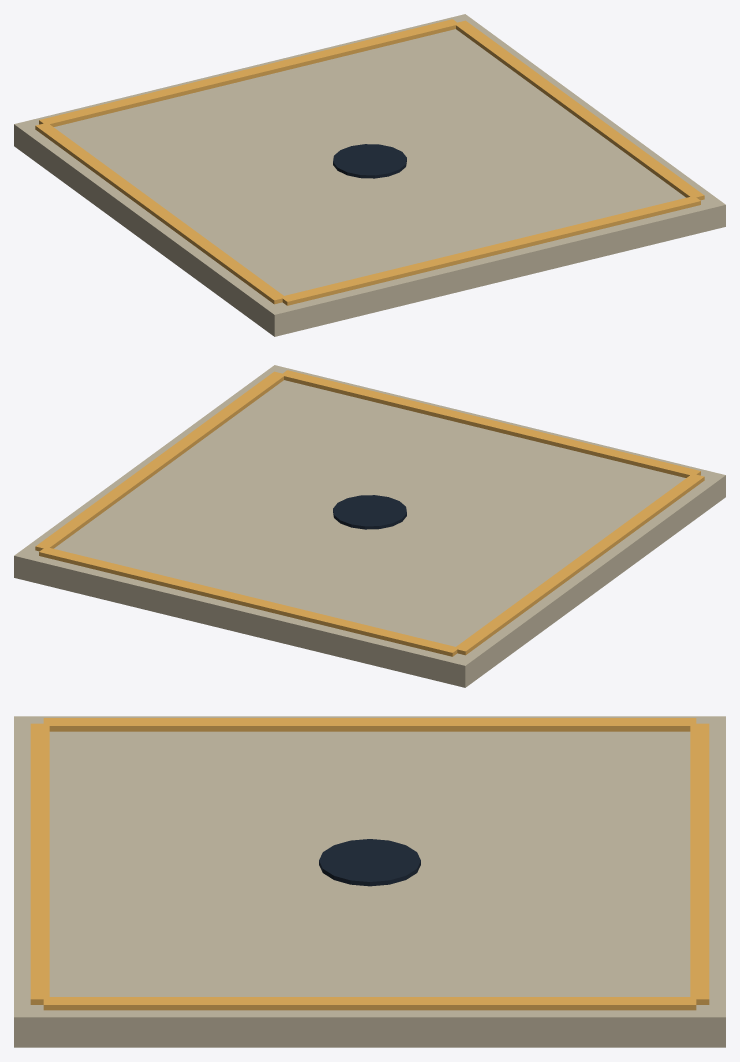
Rendered from space_die_cream_face_1.glb.
The picture shows the model from 3 angles, top to bottom: view 1: azimuth 30°, elevation 25°; view 2: azimuth 150°, elevation 25°; view 3: azimuth 270°, elevation 25°; orthographic projection. The views are drawn at different scales.
Parts seen in each view (by area): view 1: FixedDetails, BrassTrim; view 2: FixedDetails, BrassTrim; view 3: FixedDetails, BrassTrim.
Boxes of the visible parts, <box> form: FixedDetails: <box>14,14,725,336</box>; BrassTrim: <box>35,19,704,305</box>; FixedDetails: <box>14,365,725,687</box>; BrassTrim: <box>35,370,704,656</box>; FixedDetails: <box>14,716,725,1047</box>; BrassTrim: <box>30,718,709,1010</box>.
Bounding box in the file's own units: 0.6 × 0.034 × 0.6.
